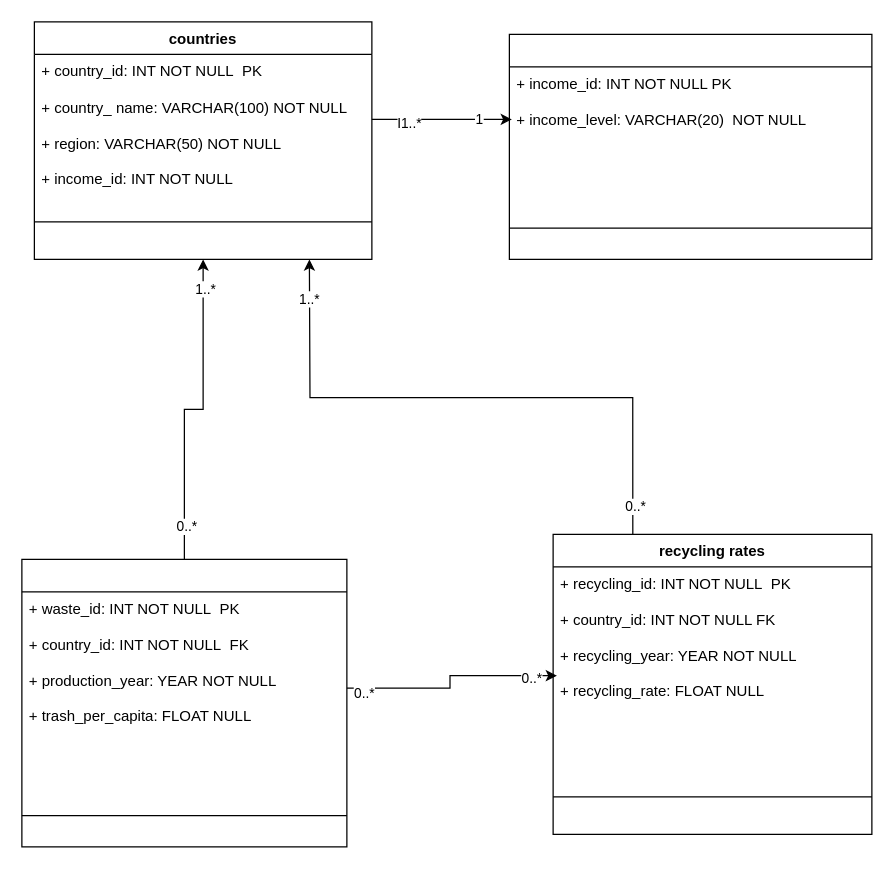
Some shapes in this 894 by 869 pixel diagram are drawn without their labels. The shapes that lost their labels are listed below. From the top down, each one's box as (x1, y1, x2, y2) in pixels, then its label:
(508, 33, 872, 259): income_groups
(21, 558, 347, 847): waste production
